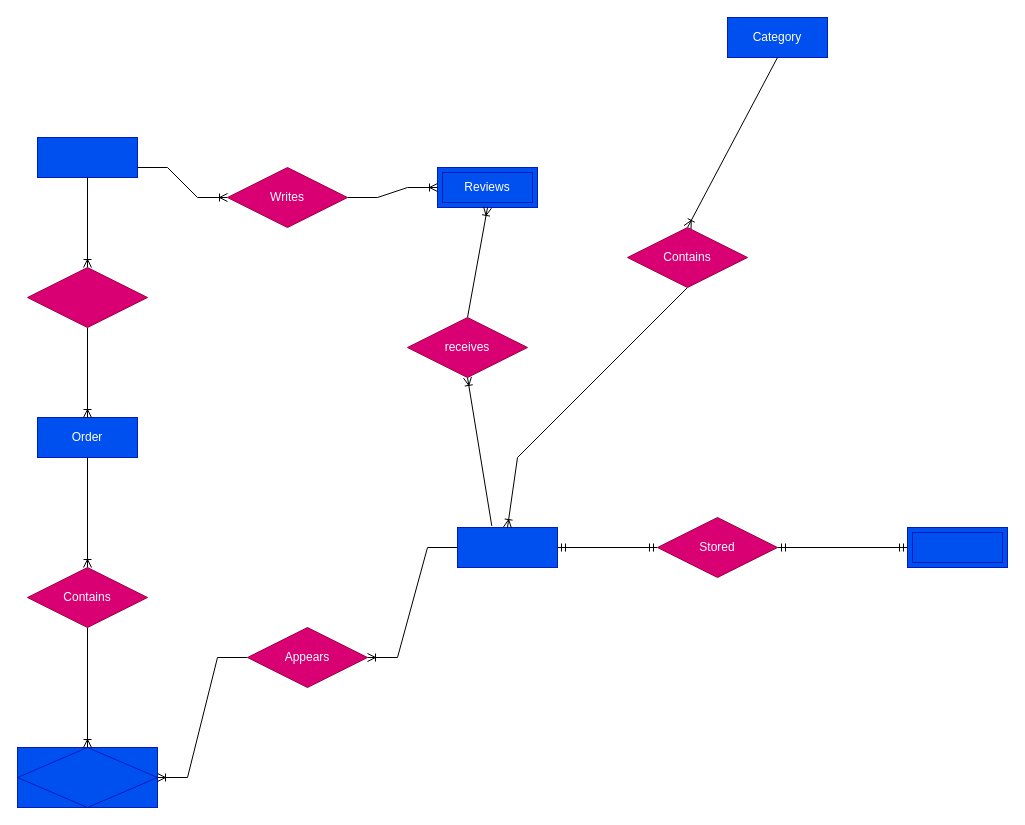
Some shapes in this 1025 by 825 pixel diagram are drawn without their labels. Each missing label, with the centre of its shape:
"Inventory" belongs at point (957, 547).
"OrderItems" belongs at point (87, 777).
"Places" belongs at point (87, 297).
"Products" belongs at point (507, 547).
"User" belongs at point (87, 157).
